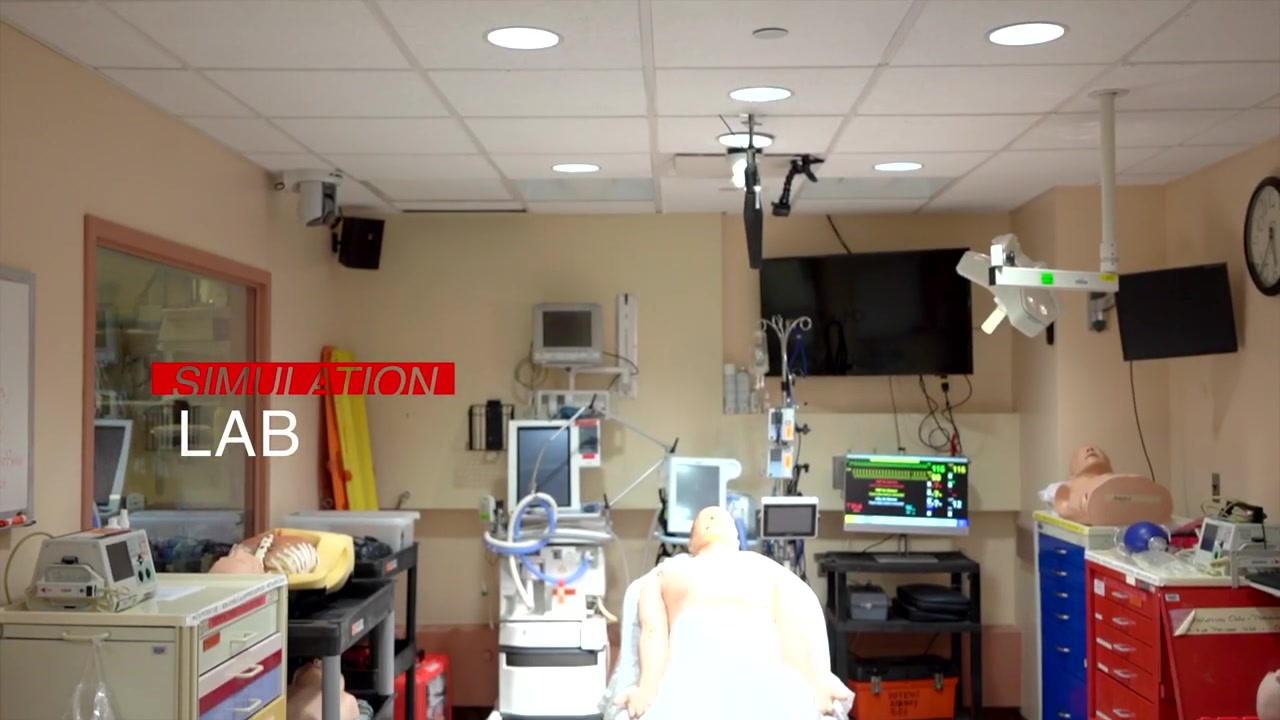TV: (761, 247, 978, 378), (1118, 263, 1238, 361)
bedside_monitor: (844, 454, 971, 537), (665, 457, 751, 537), (533, 304, 602, 367), (757, 497, 818, 538)
breathing_tube: (481, 491, 612, 610)
handle: (236, 660, 264, 679), (232, 697, 263, 713), (232, 625, 258, 644), (1111, 708, 1138, 718), (1111, 615, 1137, 625), (1112, 642, 1138, 652), (1113, 668, 1137, 678), (1053, 611, 1069, 625), (1053, 547, 1067, 560), (1053, 645, 1070, 655), (1110, 590, 1127, 599), (1053, 591, 1068, 601), (1056, 569, 1067, 578)
iv_pole: (761, 313, 811, 403)
medical_drawer: (1, 569, 290, 720), (1033, 503, 1218, 720), (1085, 549, 1280, 720)
operating_bed: (608, 550, 851, 720)
surgical_light: (963, 241, 1049, 341)
ventilator: (490, 409, 617, 720)
